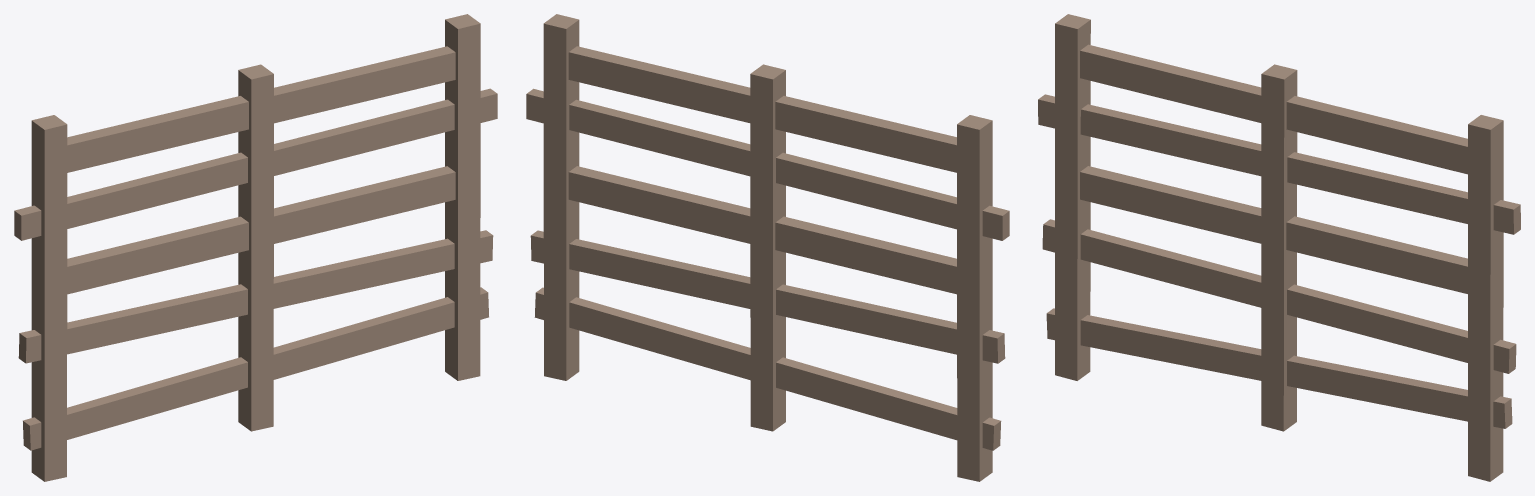
The model's file is Scaffolding_Fence_S_A1.fbx.
3 renders of one model, left to right at view 1: azimuth 30°, elevation 25°; view 2: azimuth 150°, elevation 25°; view 3: azimuth 330°, elevation 25°, orthographic.
Parts seen in each view (by area): view 1: Scaffolding_Fence_S_A1; view 2: Scaffolding_Fence_S_A1; view 3: Scaffolding_Fence_S_A1.
Boxes of the visible parts, x1,y1,x2,y2 form: Scaffolding_Fence_S_A1: [14, 14, 497, 481]; Scaffolding_Fence_S_A1: [526, 14, 1009, 481]; Scaffolding_Fence_S_A1: [1038, 14, 1520, 481].
Bounding box in the file's own units: 3.32 × 2.35 × 0.1577.
